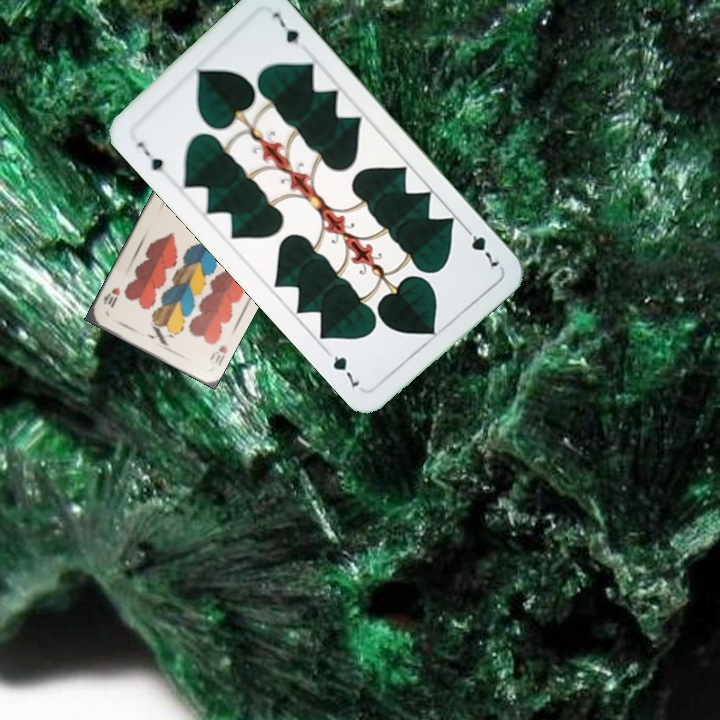G7: (459, 222, 503, 270), (132, 138, 169, 180)
H10: (206, 341, 230, 369)
